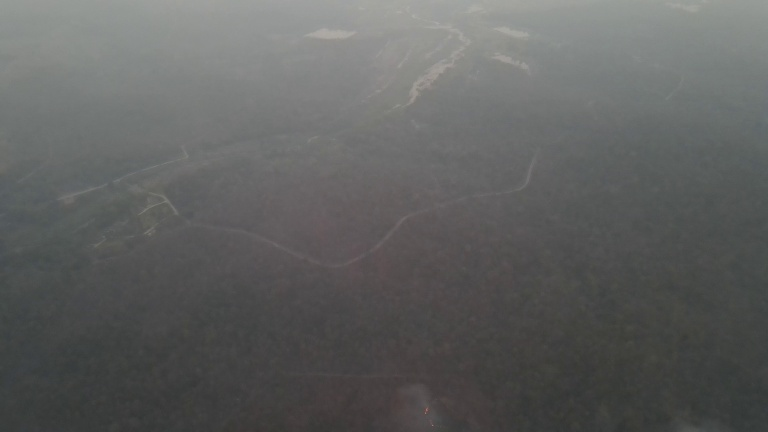fire: (421, 401, 445, 430)
smoke: (383, 376, 483, 432)
